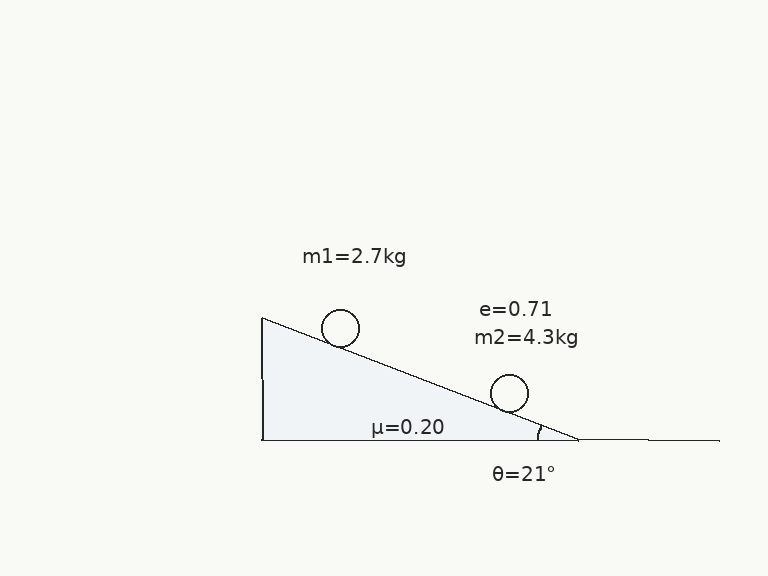ball: (319, 307, 361, 349), (488, 372, 530, 414)
ramp: (259, 316, 580, 442)
